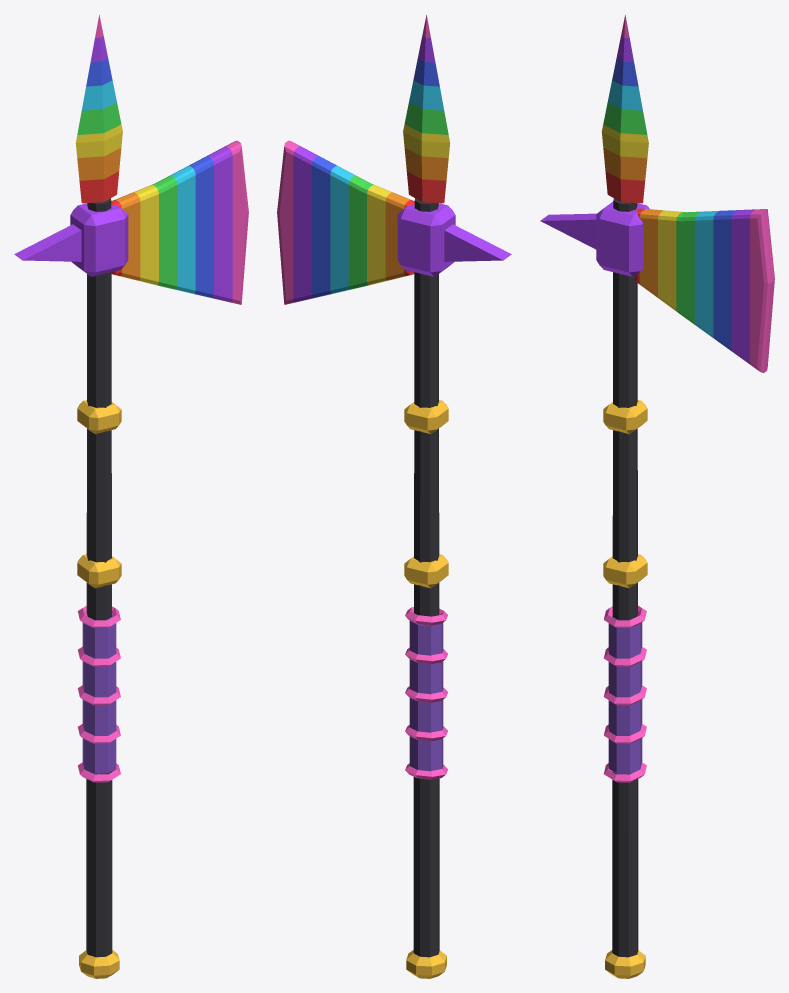
The model's file is RainbowHalberd.fbx.
The picture shows the model from 3 angles, left to right: view 1: azimuth 30°, elevation 25°; view 2: azimuth 150°, elevation 25°; view 3: azimuth 330°, elevation 25°; orthographic projection.
Visible parts, largest first — view 1: RainbowHalberd; view 2: RainbowHalberd; view 3: RainbowHalberd.
Part boxes in pixels (box(x1,y1,x2,y2)): RainbowHalberd: box(14, 15, 248, 978); RainbowHalberd: box(277, 15, 511, 978); RainbowHalberd: box(540, 15, 774, 978).
Size of the model in its own units: 1.55 by 6.22 by 0.2614.
Materials: 1 (1 with a texture image).
